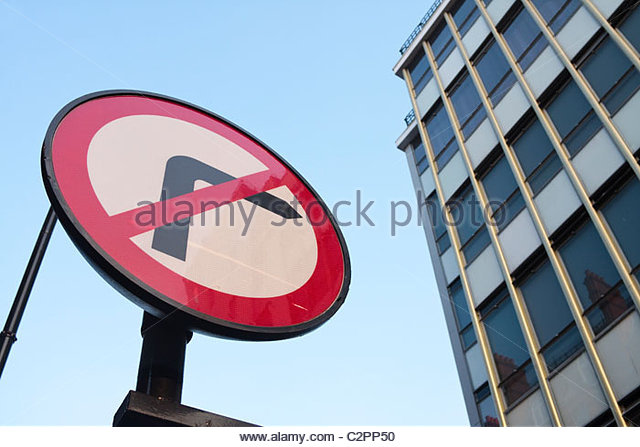No_right_turn: (42, 88, 352, 340)
